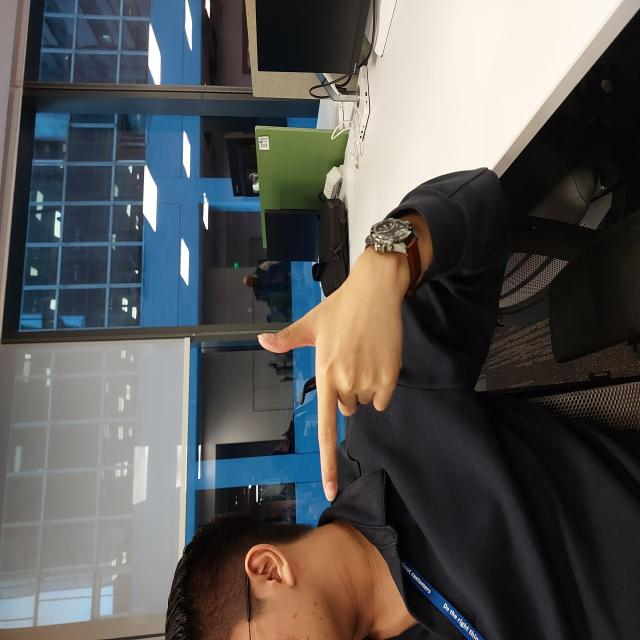G: (141, 260, 346, 402)
